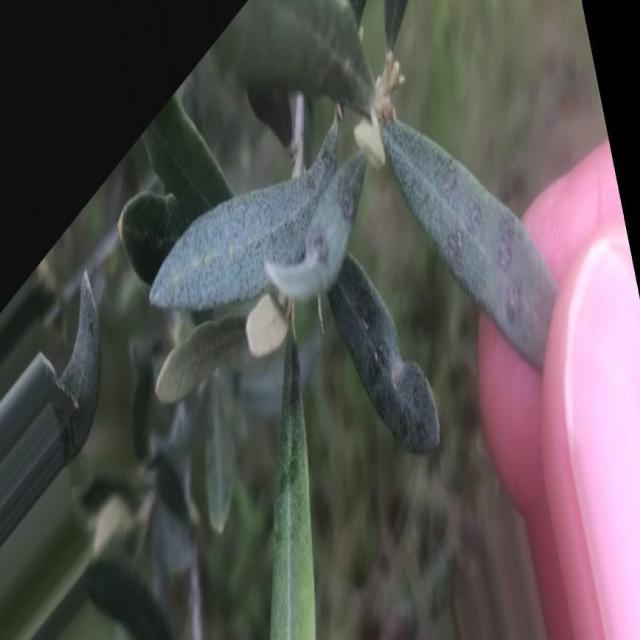Peacock Eye: (383, 119, 556, 369), (327, 255, 440, 454), (265, 150, 366, 300), (270, 336, 316, 639)
